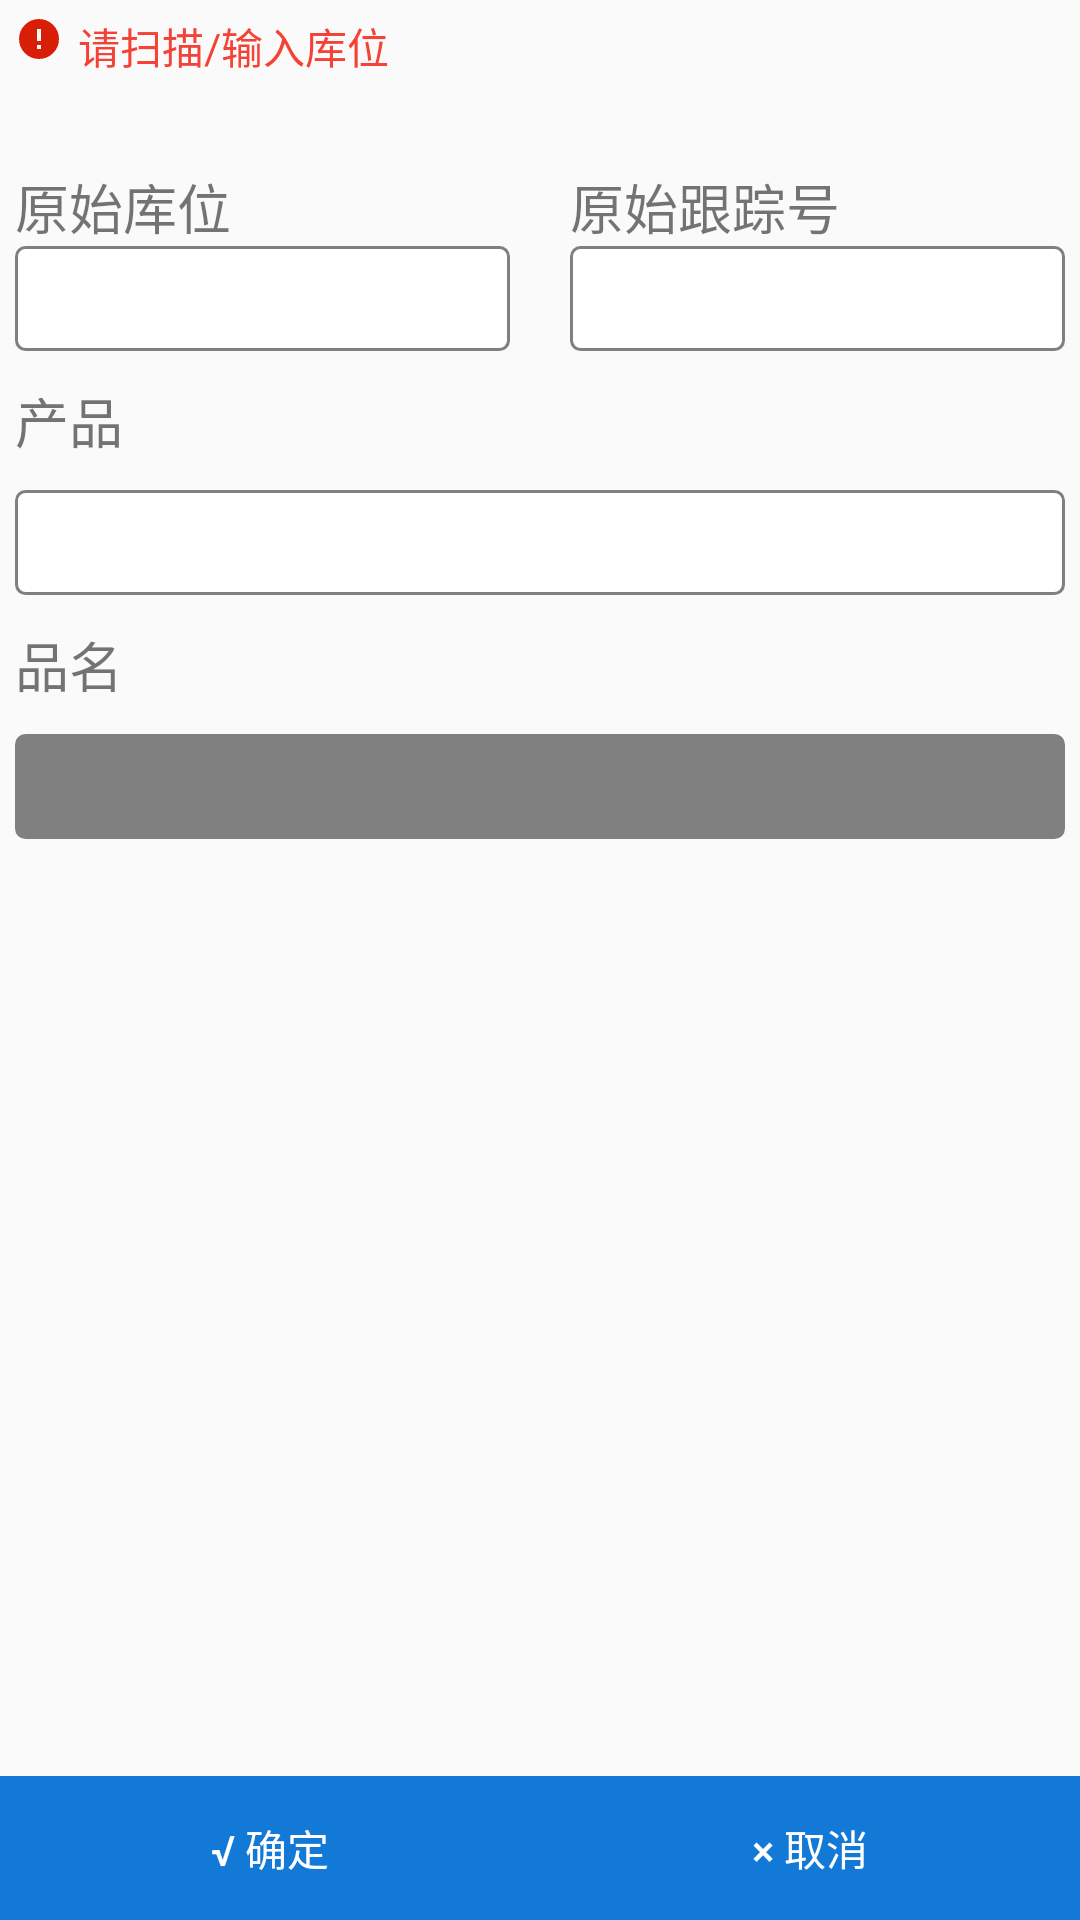

Screen size 1080w x 1920h. Icon name, then its box in pixels as bbox=(x1, y1, x2, y2):
error: bbox=(19, 19, 59, 59)
